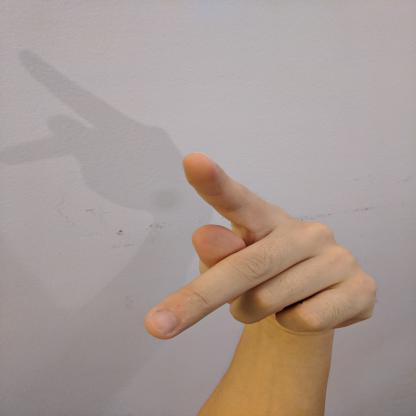P: (138, 147, 380, 343)
